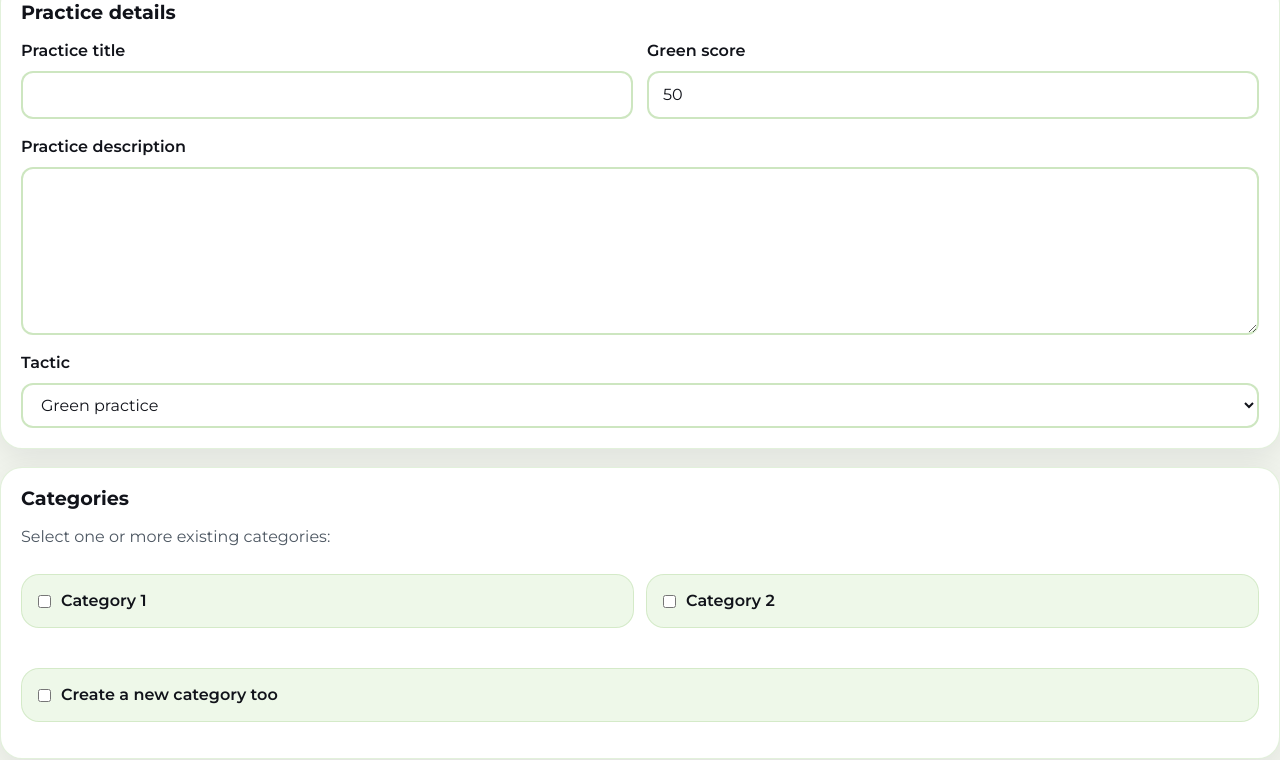
PracticeForm Component › Categories Section - Create Mode › shows new category fields when create new category is checked
Click the checkbox labelled "Create a new category too".
click(44, 695)  # box [38,689,51,702]
(page scrolled)
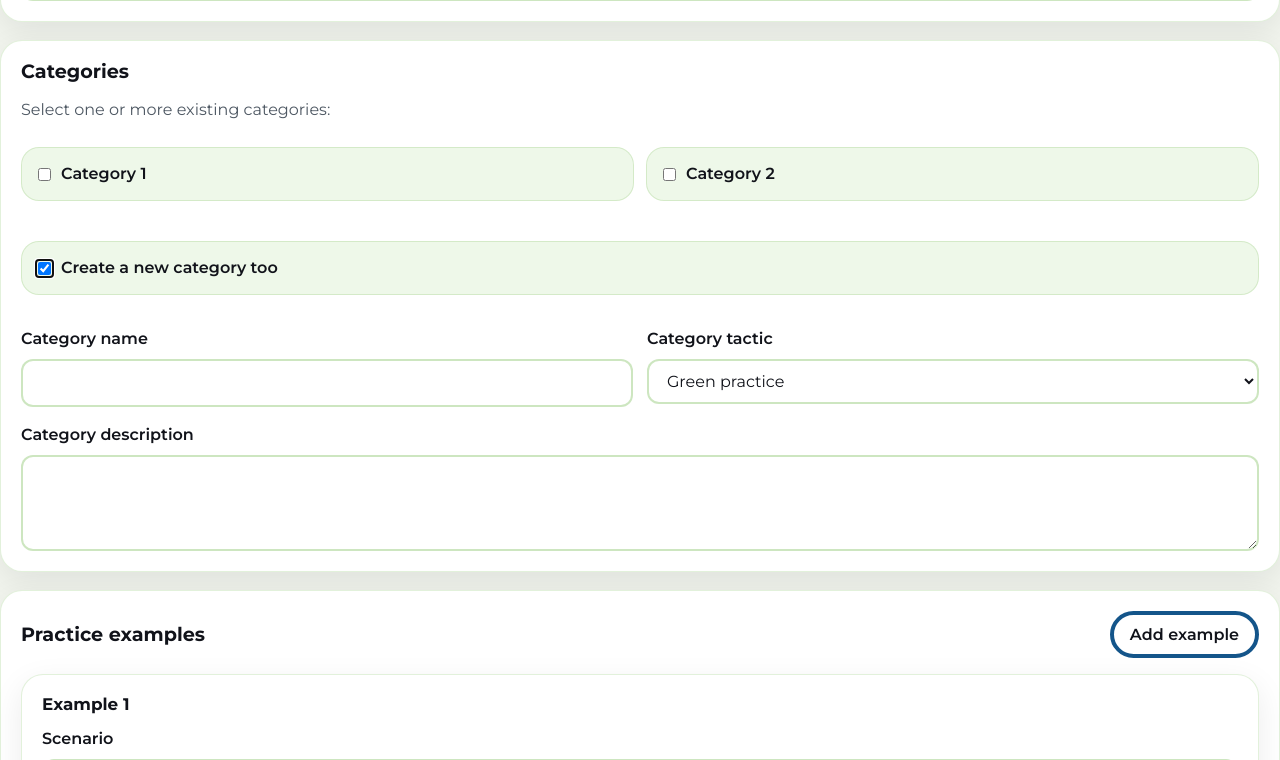
Expected: the field labelled "Category name" is shown, [21,359,633,407]
Expected: the text box labelled "Category description" is shown, [21,455,1259,551]
Expected: the dropdown labelled "Category tactic" is shown, [647,359,1259,404]
